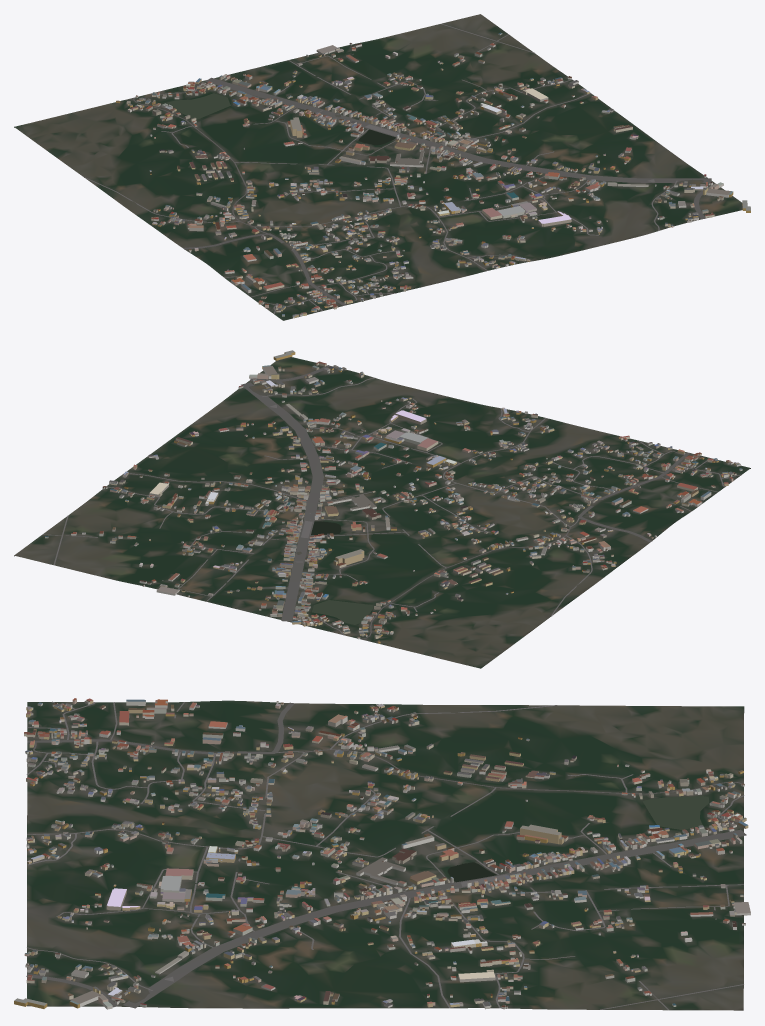
3 views of the same model, one above another, from view 1: azimuth 30°, elevation 25°; view 2: azimuth 150°, elevation 25°; view 3: azimuth 270°, elevation 25° (orthographic). The views are drawn at different scales.
Parts seen in each view (by area): view 1: ground, buildings, roads, water; view 2: ground, buildings, roads, water; view 3: ground, buildings, roads, water.
Part boxes in pixels (x1=…): ground: x1=14, y1=14, x2=742, y2=320; buildings: x1=116, y1=32, x2=750, y2=318; roads: x1=84, y1=23, x2=714, y2=314; water: x1=167, y1=93, x2=395, y2=145; ground: x1=14, y1=357, x2=750, y2=668; buildings: x1=45, y1=350, x2=742, y2=643; roads: x1=42, y1=365, x2=741, y2=639; water: x1=311, y1=521, x2=373, y2=624; ground: x1=27, y1=700, x2=744, y2=1010; buildings: x1=14, y1=698, x2=750, y2=1009; roads: x1=26, y1=701, x2=746, y2=1010; water: x1=447, y1=795, x2=708, y2=882.
Size of the model in its own units: 1418 by 28.74 by 1441.
